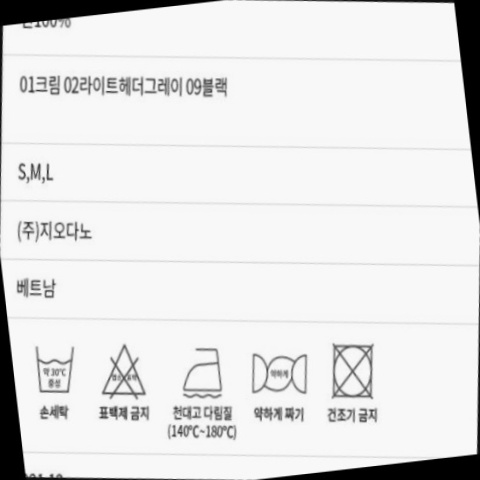30C: (25, 333, 88, 401)
DN_tumble_dry: (317, 331, 389, 408)
iron: (240, 339, 320, 403), (170, 333, 237, 406)
non_chlorine_bleach: (92, 332, 162, 407)
